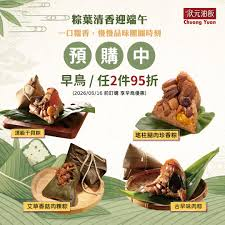zongzi: (152, 72, 200, 132), (139, 159, 186, 200), (42, 161, 79, 205), (29, 88, 63, 123)
